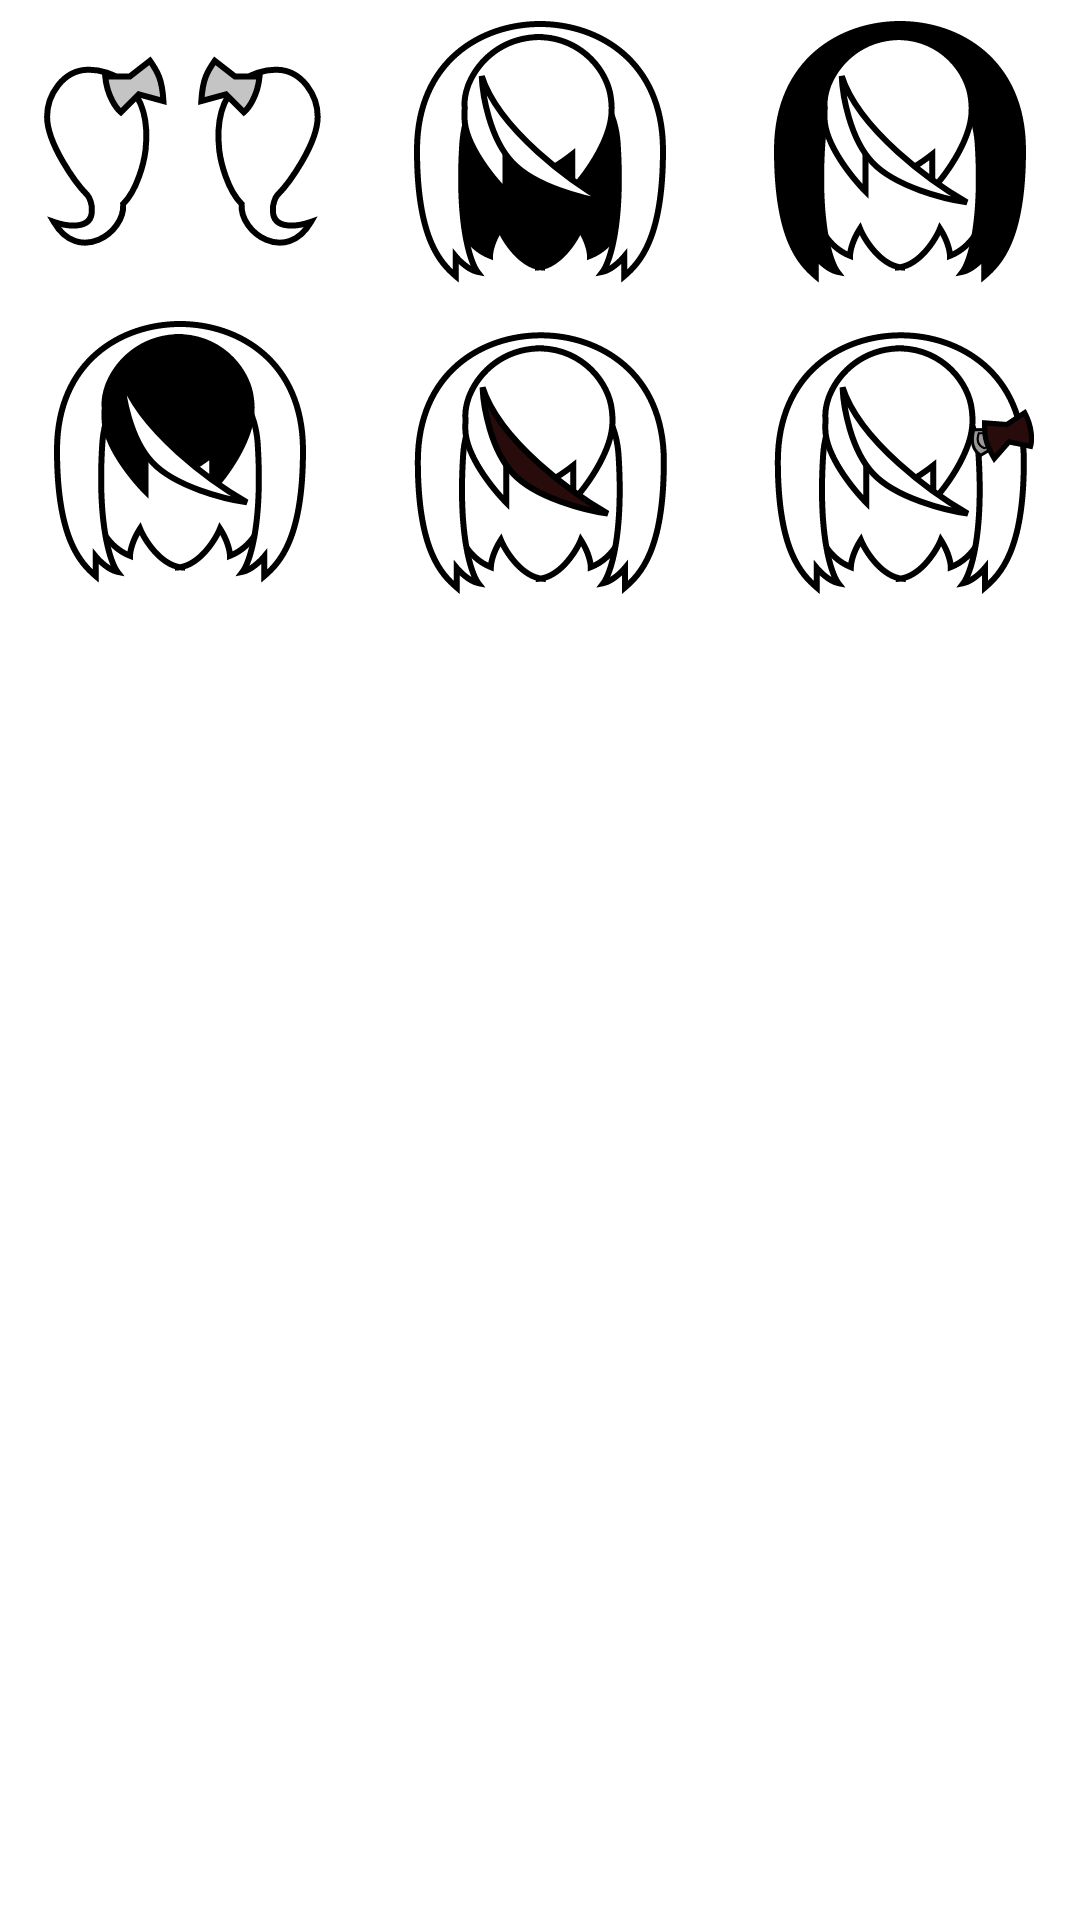

Icon bounding boxes for this 1080x1920 phone screenshot, format (x1, y1, x2, y2):
front bangs menu: (54, 321, 306, 583)
hair accessories menu: (774, 332, 1034, 594)
side bangs menu: (414, 332, 667, 594)
tails menu: (44, 56, 321, 246)
